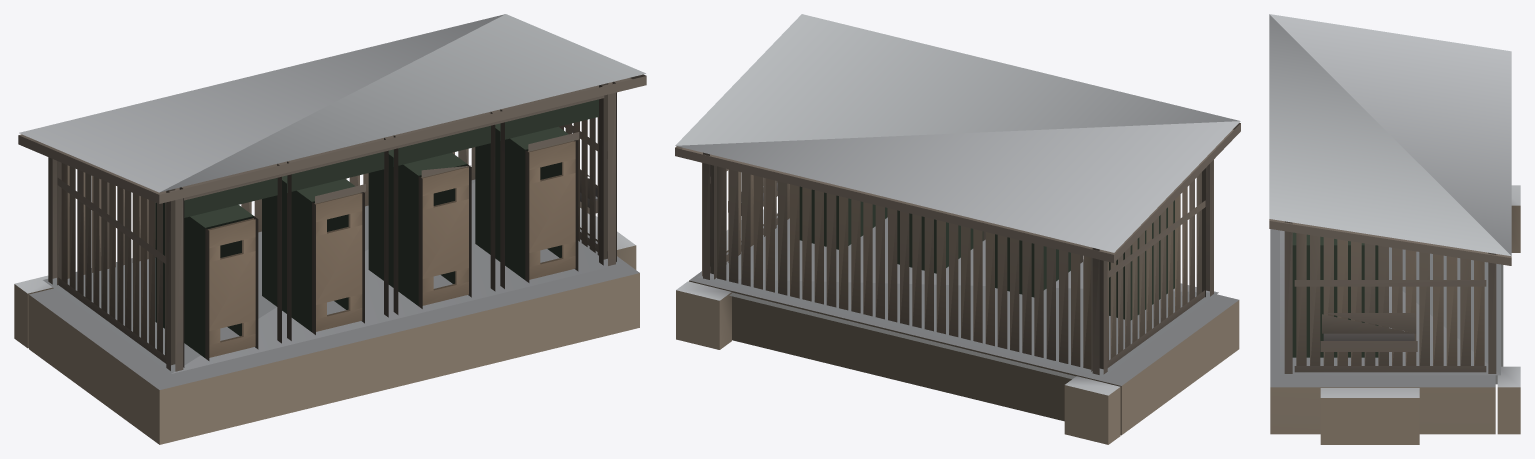
Rendered from washhouse.lod.glb.
The picture shows the model from 3 angles, left to right: view 1: azimuth 30°, elevation 25°; view 2: azimuth 150°, elevation 25°; view 3: azimuth 270°, elevation 25°; orthographic projection. The views are drawn at different scales.
Visible parts, largest first — view 1: washhouse; view 2: washhouse; view 3: washhouse.
Part boxes in pixels (x1,y1,x2,y2): washhouse: (14, 14, 646, 444); washhouse: (675, 14, 1240, 444); washhouse: (1269, 14, 1520, 444).
Size of the model in its own units: 9.98 by 4.76 by 4.98.
